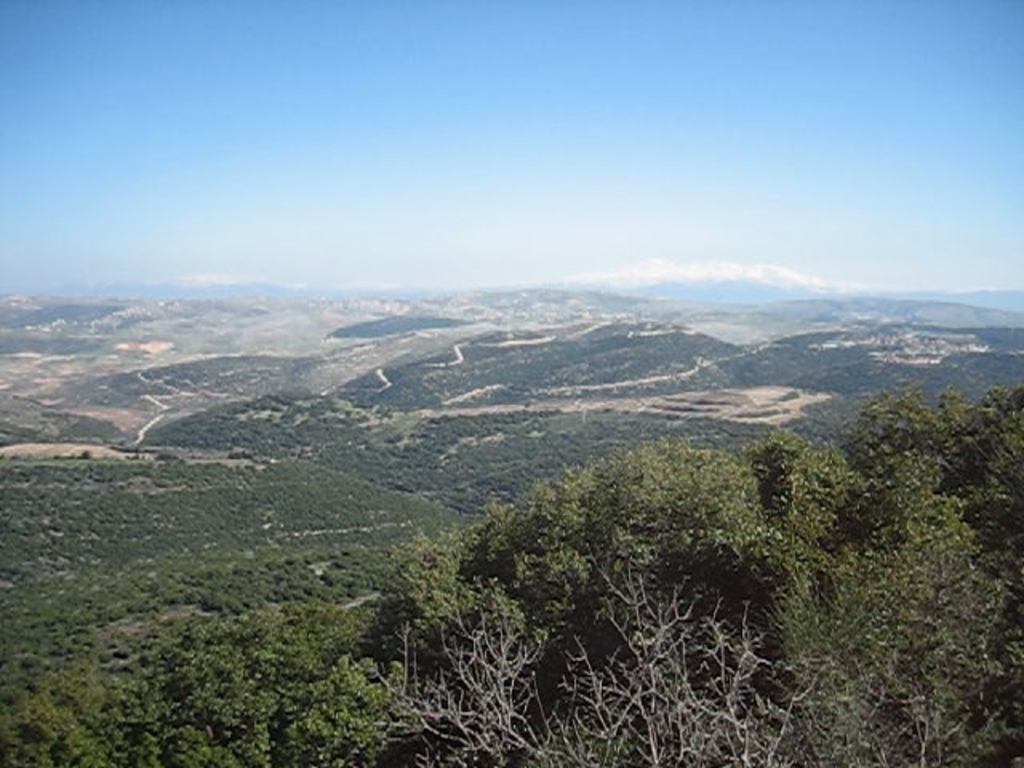Tree: (0, 384, 1022, 766), (380, 558, 848, 766)
